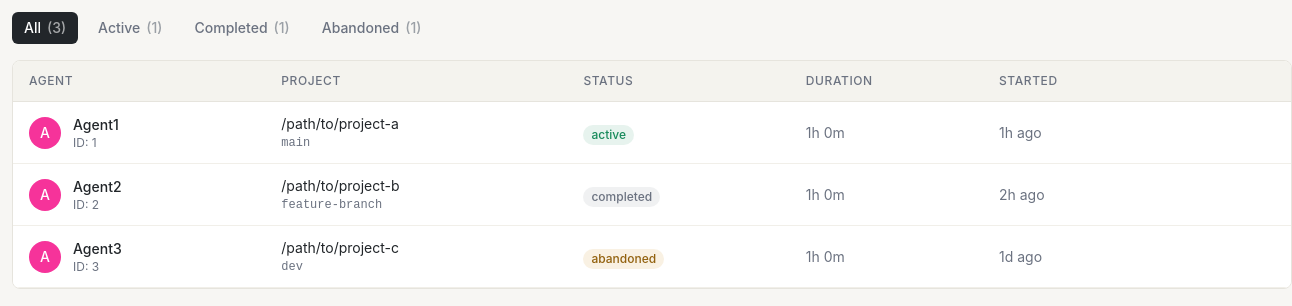
Test: SessionList › filters sessions by status
The width and height of the screenshot is (1292, 306).
Click Active filter.
Click the button "Active(1)".
click(130, 28)  # box [86, 12, 174, 44]
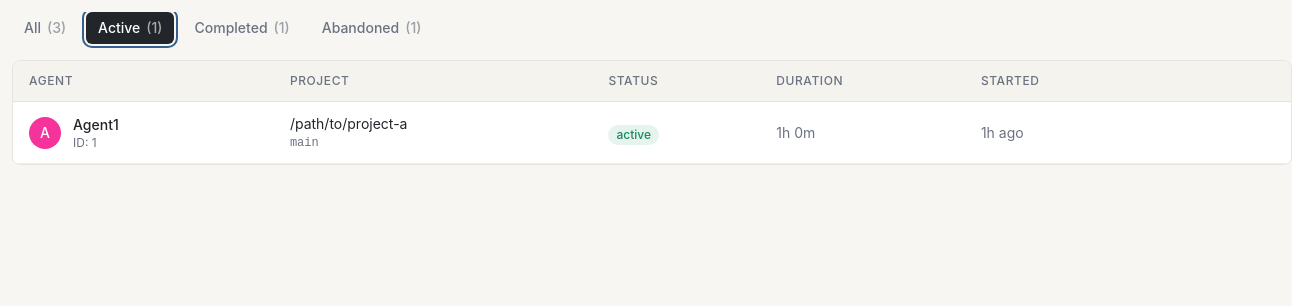
Expected: the text "Agent1" is shown, [73, 114, 119, 134]
Result: the text "Agent2" is gone
Result: the text "Agent3" is gone
